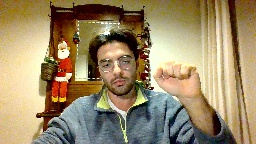Pugno: (150, 58, 203, 101)
